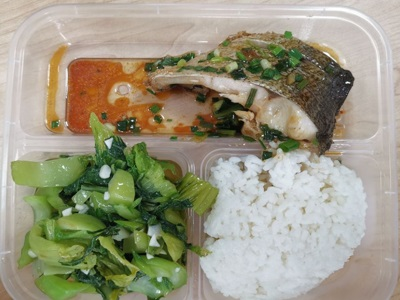cyc: (16, 141, 182, 292)
rice: (221, 158, 353, 287)
yd: (162, 28, 331, 138)
